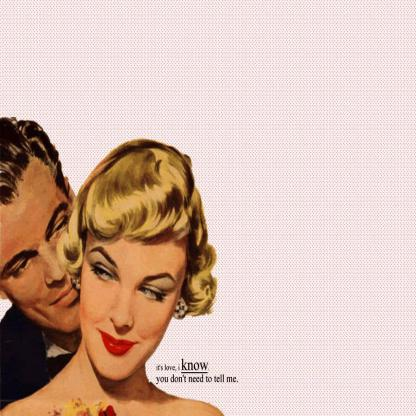face: (82, 199, 185, 381), (2, 162, 82, 332)
